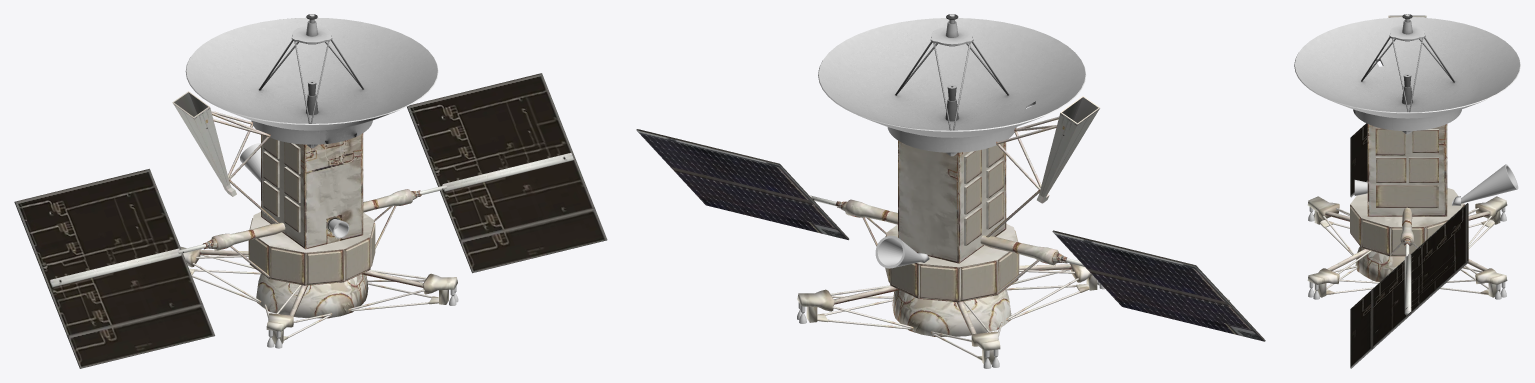
Rendered from magellan.glb.
3 renders of one model, left to right at view 1: azimuth 30°, elevation 25°; view 2: azimuth 150°, elevation 25°; view 3: azimuth 270°, elevation 25°, orthographic. The views are drawn at different scales.
Visible parts, largest first — view 1: tex_01, dish_etc, aluminum.001, aluminum; view 2: tex_01, dish_etc, shiny_panel, aluminum; view 3: tex_01, dish_etc, aluminum, aluminum.001.
Boxes of the visible parts, box(x1,y1,x2,y2) form: tex_01: box(14, 73, 607, 368); dish_etc: box(185, 14, 438, 148); aluminum.001: box(267, 219, 458, 348); aluminum: box(240, 143, 260, 182); tex_01: box(636, 96, 1265, 364); dish_etc: box(818, 14, 1086, 156); shiny_panel: box(637, 130, 1264, 341); aluminum: box(875, 235, 922, 268); tex_01: box(1307, 15, 1507, 368); dish_etc: box(1294, 14, 1520, 134); aluminum: box(1461, 164, 1518, 203); aluminum.001: box(1308, 180, 1506, 299).
Size of the model in its own units: 8.9 by 4.53 by 3.7.
Materials: 4 (3 with a texture image).
